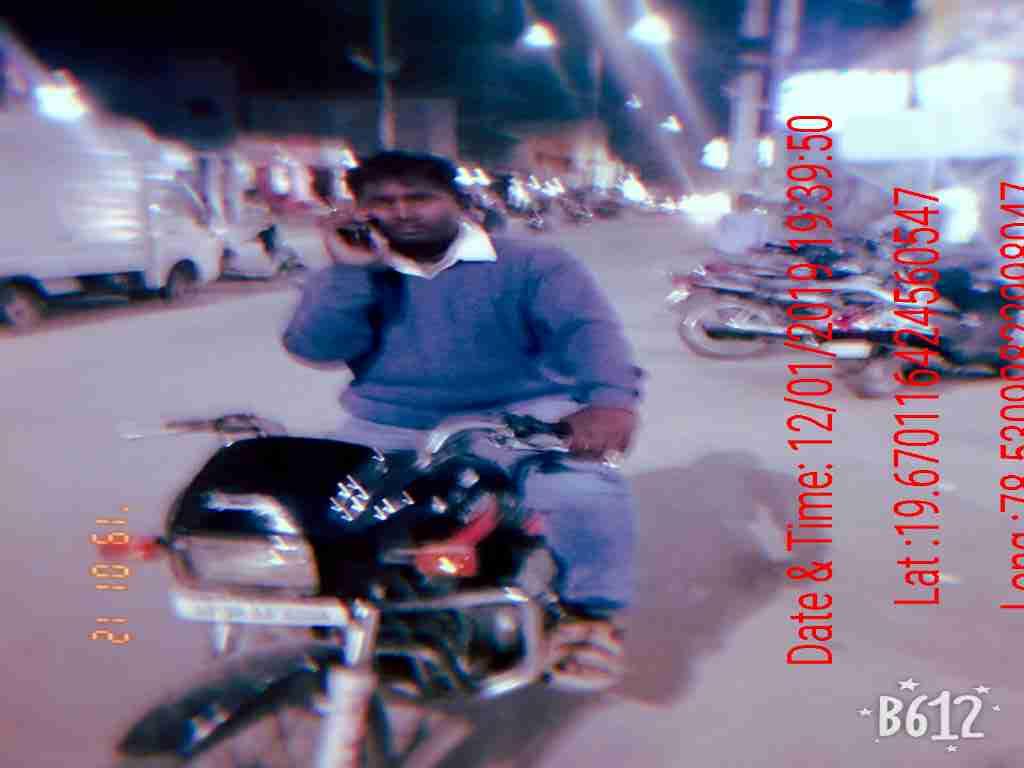plate: (174, 589, 352, 637)
